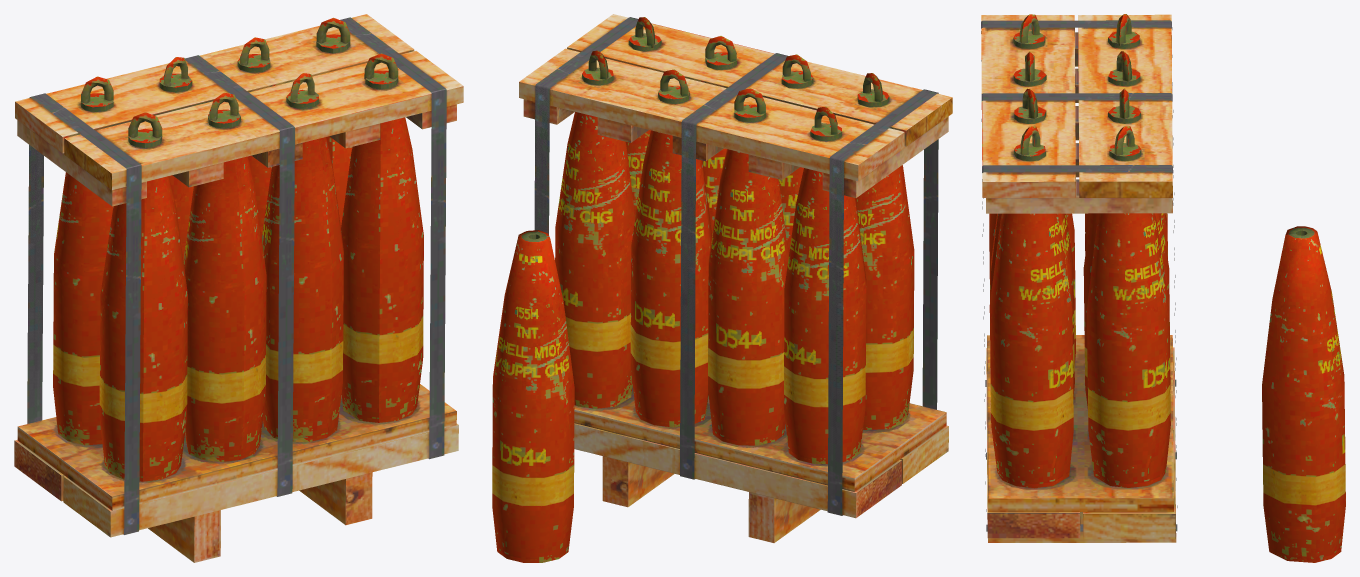
Rendered from RedBase.FBX.
3 views of the same model, side by side, from view 1: azimuth 30°, elevation 25°; view 2: azimuth 150°, elevation 25°; view 3: azimuth 270°, elevation 25° (orthographic). The views are drawn at different scales.
Visible parts, largest first — view 1: BlueBase; view 2: BlueBase; view 3: BlueBase.
Part boxes in pixels (left/top/right/bottom): BlueBase: left=14, top=14, right=463, bottom=562; BlueBase: left=492, top=14, right=952, bottom=562; BlueBase: left=981, top=14, right=1345, bottom=562.
Bounding box in the file's own units: 6.71 × 8.07 × 6.15.
